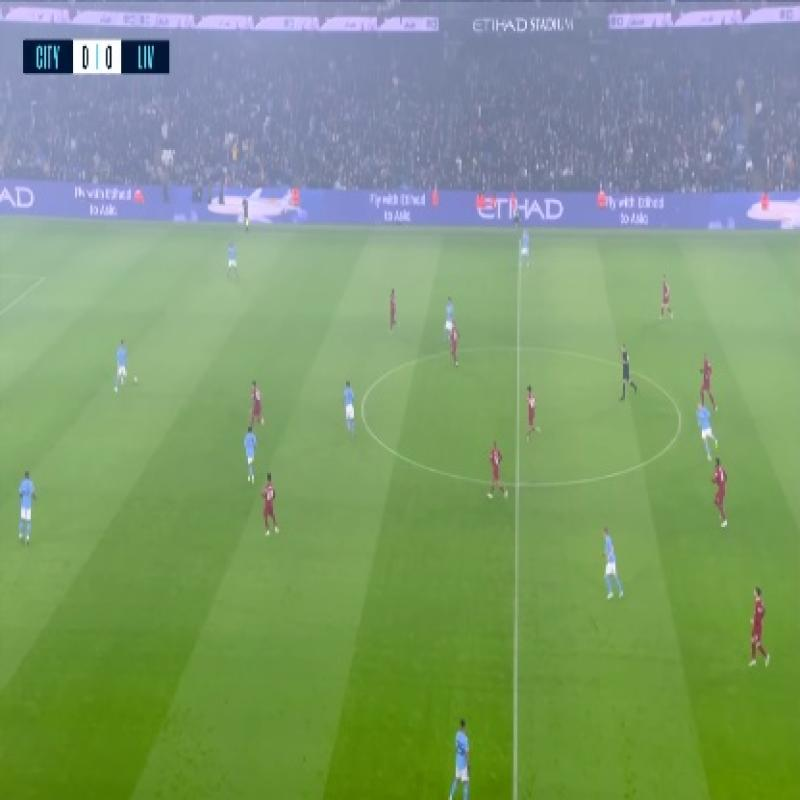14: (506, 330, 527, 362)
15: (506, 469, 525, 498)
9: (35, 268, 50, 290)
c: (342, 390, 382, 424), (664, 398, 694, 437)
